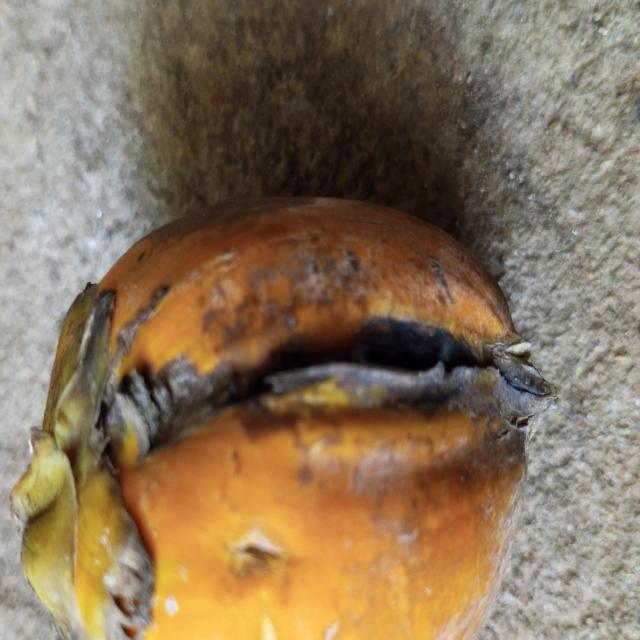damaged: (11, 198, 554, 640)
